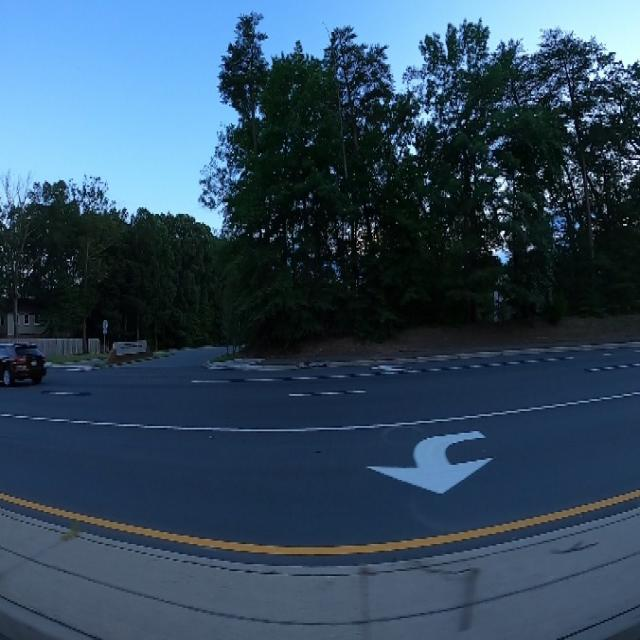cars: (0, 332, 46, 389)
